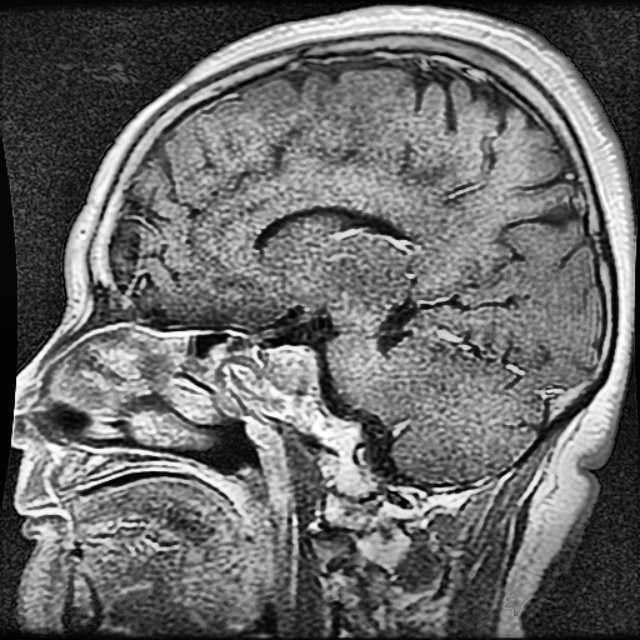Pituitary: (265, 344, 320, 390)
